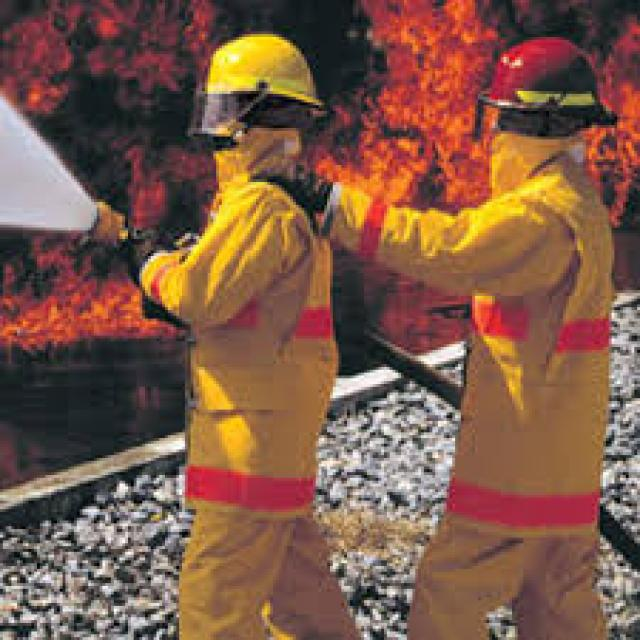Reflective-Jacket: (427, 162, 637, 558), (145, 165, 350, 521)
Safety-Helmet: (185, 26, 338, 128), (470, 28, 618, 128)
